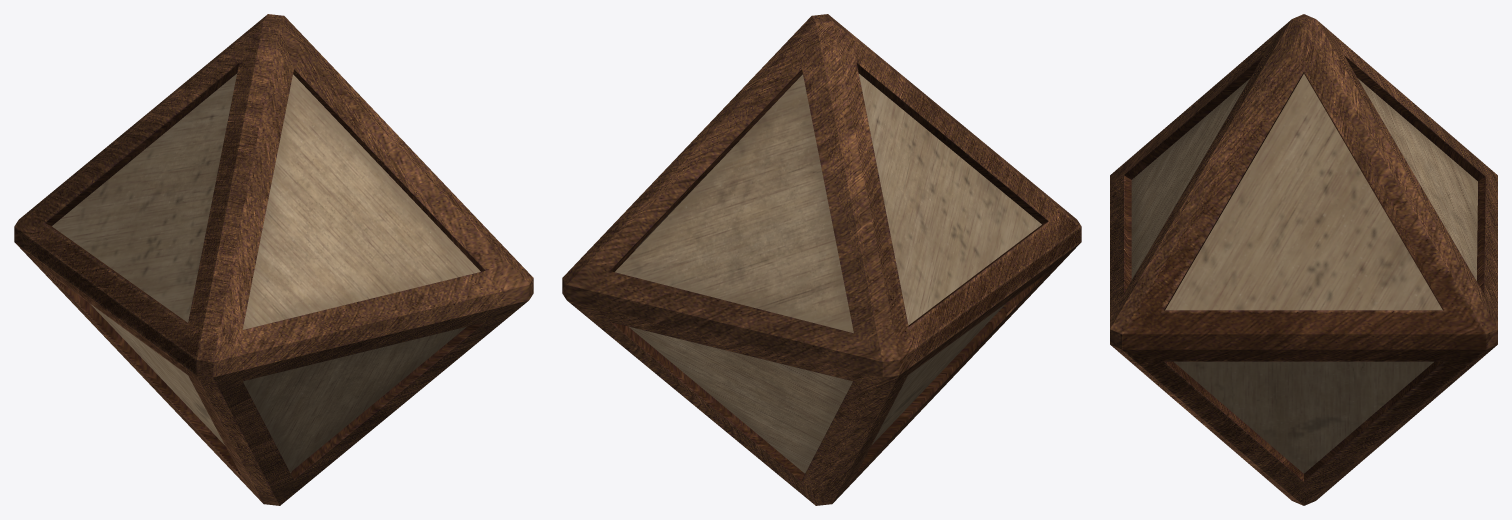
3 renders of one model, left to right at view 1: azimuth 30°, elevation 25°; view 2: azimuth 150°, elevation 25°; view 3: azimuth 270°, elevation 25°, orthographic.
Parts seen in each view (by area): view 1: polySurface1; view 2: polySurface1; view 3: polySurface1.
Boxes of the visible parts, bbox=[...] form: polySurface1: bbox=[14, 14, 533, 505]; polySurface1: bbox=[562, 14, 1081, 505]; polySurface1: bbox=[1110, 14, 1497, 505].
Bounding box in the file's own units: 0.0259 × 0.0354 × 0.0259.
1 material, 1 textured.
